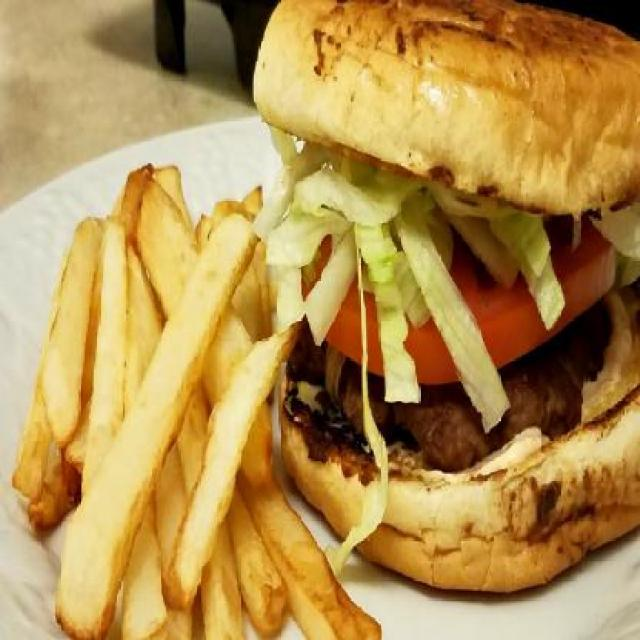french fries: (12, 155, 376, 640)
hamburger: (243, 2, 640, 602)
